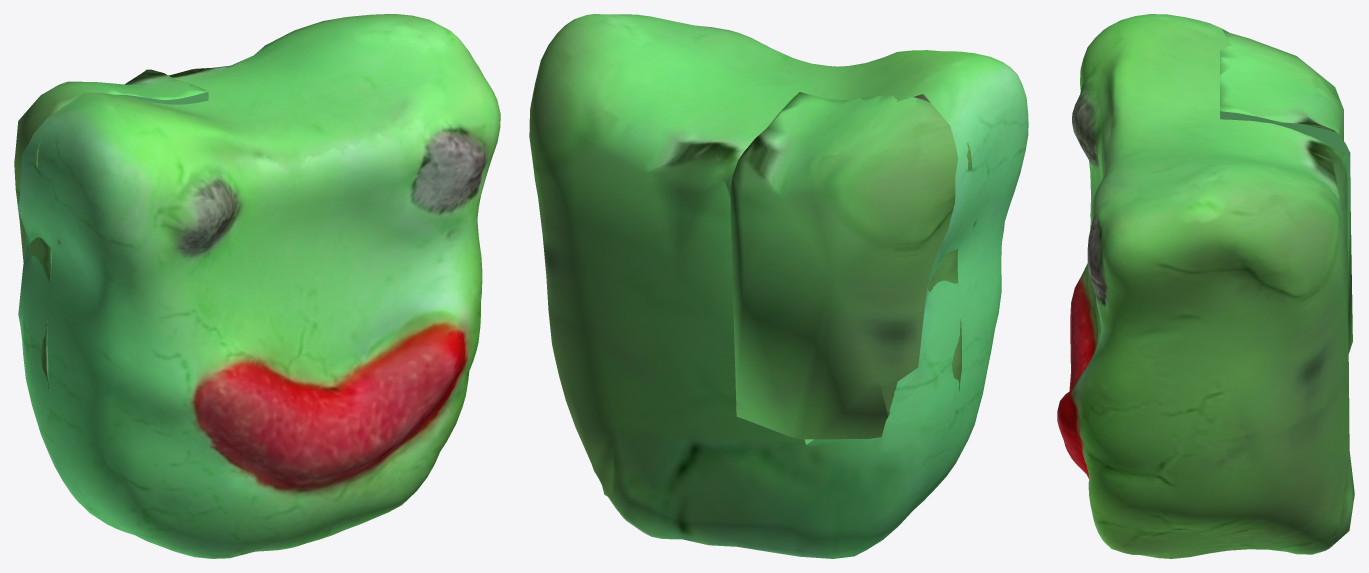
Rendered from ps-frog.glb.
The picture shows the model from 3 angles, left to right: view 1: azimuth 30°, elevation 25°; view 2: azimuth 150°, elevation 25°; view 3: azimuth 270°, elevation 25°; orthographic projection. The views are drawn at different scales.
Parts seen in each view (by area): view 1: baked_mesh.001, baked_mesh.002; view 2: baked_mesh.001, baked_mesh.002; view 3: baked_mesh.001, baked_mesh.002.
Part boxes in pixels (x1=…): baked_mesh.001: x1=17, y1=14, x2=500, y2=558; baked_mesh.002: x1=14, y1=69, x2=208, y2=411; baked_mesh.001: x1=529, y1=14, x2=1028, y2=558; baked_mesh.002: x1=730, y1=92, x2=971, y2=439; baked_mesh.001: x1=1057, y1=14, x2=1354, y2=558; baked_mesh.002: x1=1220, y1=31, x2=1352, y2=353.
Size of the model in its own units: 0.1432 by 0.1558 by 0.094.
Materials: 2 (2 with a texture image).
